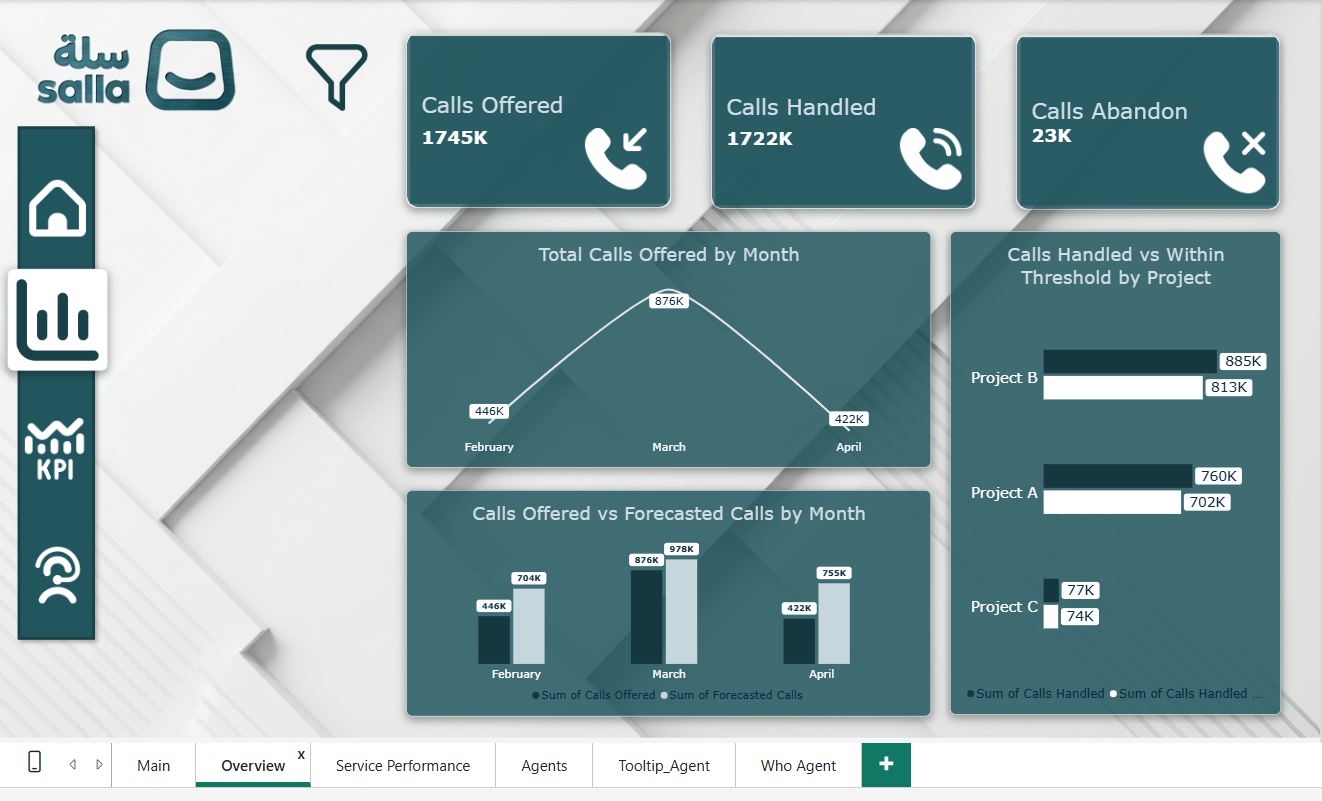

The dashboard page shown, as its layout file describes it:
{"tool":"powerbi","page":{"name":"Overview","canvas":[1920,1080],"ordinal":1},"visuals":[{"type":"shape","box":[0,158.3,163.4,796.6],"z":0},{"type":"shape","box":[10.9,390.4,145.5,148.1],"z":1000},{"type":"image","box":[27.2,232.4,112.6,139.8],"z":2000},{"type":"image","box":[7.3,390.4,152.5,148.9],"z":3000},{"type":"image","box":[15.3,592.3,132.8,120],"z":4000},{"type":"image","box":[28.1,778.7,112.3,112.3],"z":5000},{"type":"clusteredColumnChart","title":"Calls Offered vs Forecasted Calls by Month","fields":{"Category":["Date.Date.Variation.Date Hierarchy.Month"],"Y":["Sum(Sallah Project.Calls Offered)","Sum(Sallah Project.Forecasted Calls)"]},"box":[589.7,712.4,762.6,328.7],"z":6000},{"type":"cardVisual","fields":{"Data":["Sum(Sallah Project.Calls Offered)"]},"box":[589.6,46.8,384.4,254.5],"z":7000},{"type":"cardVisual","fields":{"Data":["Sum(Sallah Project.Calls Handled)"]},"box":[1032.5,49.4,384.4,254.5],"z":8000},{"type":"lineChart","title":"Total Calls Offered by Month","fields":{"Category":["Date.Date.Variation.Date Hierarchy.Month"],"Y":["Sum(Sallah Project.Calls Offered)"]},"box":[589.7,336.5,762.6,343.2],"z":9000},{"type":"clusteredBarChart","title":"Calls Handled vs Within Threshold by Project","fields":{"Category":["Sallah Project.Project"],"Y":["Sum(Sallah Project.Calls Handled)","Sum(Sallah Project.Calls Handled With in Thrshold)"]},"box":[1379.6,336.5,481.2,702.7],"z":10000},{"type":"image","box":[421.3,49,136.2,127.1],"z":11000},{"type":"cardVisual","fields":{"Data":["Sum(Sallah Project.Calls Abandon)"]},"box":[1475.3,49.4,383.2,255.5],"z":19000},{"type":"image","box":[828.6,171.4,132.8,120],"z":20000},{"type":"image","box":[1285.7,171.4,132.8,120],"z":21000},{"type":"image","box":[1727.3,176.6,132.8,120],"z":22000}]}

Visuals, with their boxes in screenshot pixels (x1, y1, x2, y2):
shape: x1=10, y1=111, x2=121, y2=652
shape: x1=18, y1=269, x2=117, y2=369
image: x1=29, y1=161, x2=105, y2=256
image: x1=15, y1=269, x2=119, y2=370
image: x1=21, y1=406, x2=111, y2=487
image: x1=29, y1=532, x2=106, y2=608
"Calls Offered vs Forecasted Calls by Month" clusteredColumnChart: x1=411, y1=487, x2=929, y2=710
cardVisual - Sum(Sallah Project.Calls Offered): x1=411, y1=35, x2=672, y2=208
cardVisual - Sum(Sallah Project.Calls Handled): x1=711, y1=37, x2=972, y2=210
"Total Calls Offered by Month" lineChart: x1=411, y1=232, x2=929, y2=465
"Calls Handled vs Within Threshold by Project" clusteredBarChart: x1=947, y1=232, x2=1274, y2=709
image: x1=296, y1=37, x2=389, y2=123
cardVisual - Sum(Sallah Project.Calls Abandon): x1=1012, y1=37, x2=1272, y2=210
image: x1=573, y1=120, x2=663, y2=201
image: x1=883, y1=120, x2=974, y2=201
image: x1=1183, y1=123, x2=1273, y2=205
